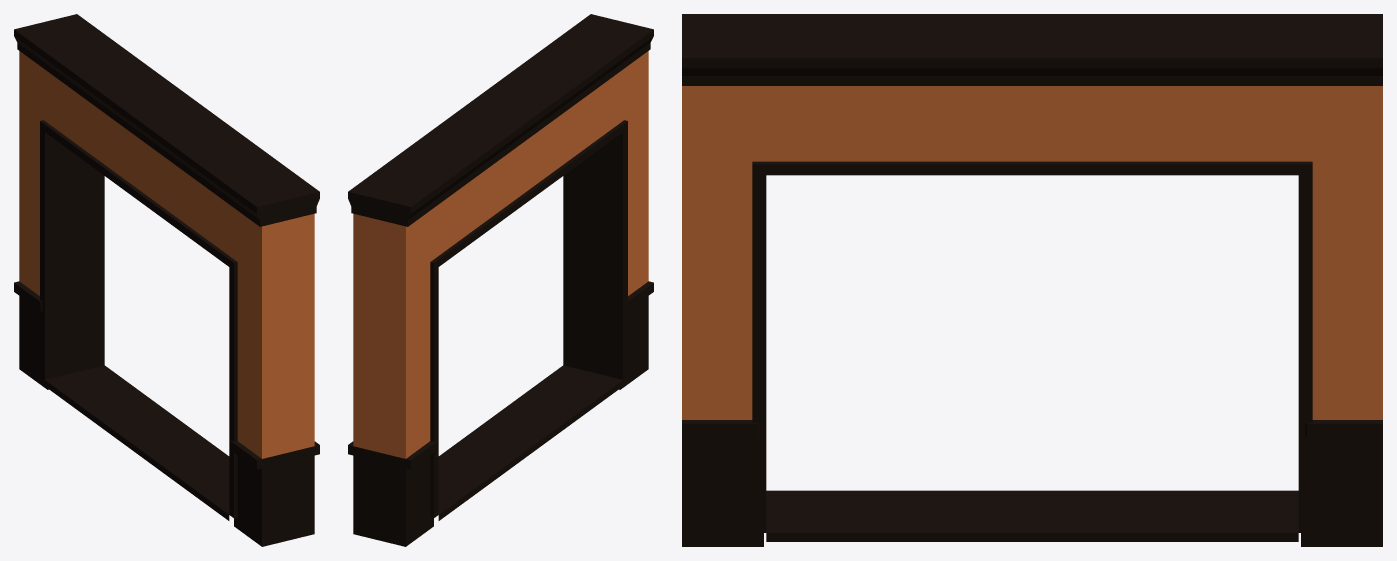
The model's file is WallDoorBig_Final.fbx.
3 renders of one model, left to right at view 1: azimuth 30°, elevation 25°; view 2: azimuth 150°, elevation 25°; view 3: azimuth 270°, elevation 25°, orthographic. The views are drawn at different scales.
Parts seen in each view (by area): view 1: S_WallDoorBig.001; view 2: S_WallDoorBig.001; view 3: S_WallDoorBig.001.
Part boxes in pixels (left/top/right/bottom): S_WallDoorBig.001: left=14, top=14, right=319, bottom=546; S_WallDoorBig.001: left=348, top=14, right=653, bottom=546; S_WallDoorBig.001: left=682, top=14, right=1382, bottom=546.
Size of the model in its own units: 0.5994 by 3.1 by 4.
